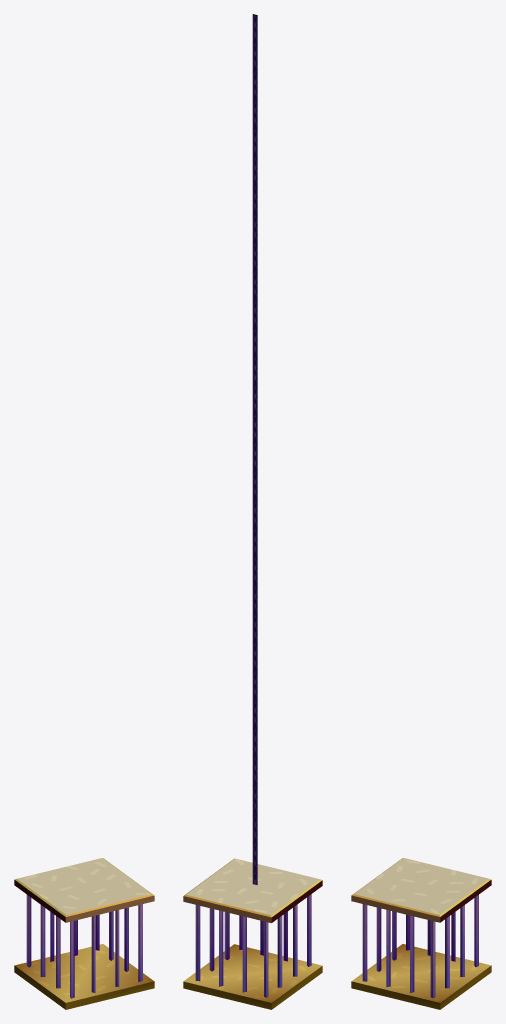
The model's file is toy__swinging_obstacle_cage_ugc_a_000_1x1.glb.
The picture shows the model from 3 angles, left to right: view 1: azimuth 30°, elevation 25°; view 2: azimuth 150°, elevation 25°; view 3: azimuth 330°, elevation 25°; orthographic projection.
Visible parts, largest first — view 1: MSH_Cage_A_000_3; view 2: MSH_Cage_A_000_3, MSH_Chain_A_000_5; view 3: MSH_Cage_A_000_3.
Boxes of the visible parts, <box> form: MSH_Cage_A_000_3: <box>14,858,154,1009</box>; MSH_Cage_A_000_3: <box>183,858,322,1009</box>; MSH_Chain_A_000_5: <box>252,14,257,885</box>; MSH_Cage_A_000_3: <box>351,858,491,1009</box>.
Size of the model in its own units: 2.05 by 21.39 by 2.05.
2 materials, 2 textured.
